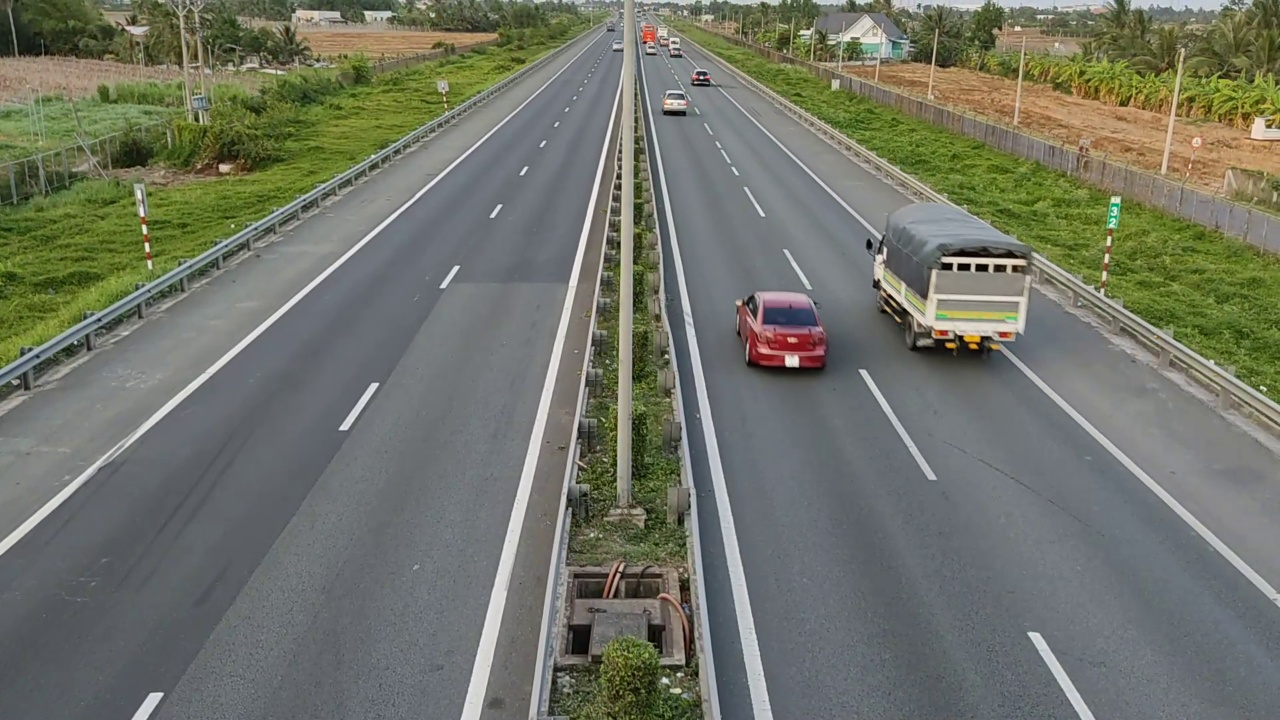car: (735, 290, 829, 369), (661, 89, 689, 115), (690, 69, 712, 85)
truck: (866, 198, 1035, 362)
